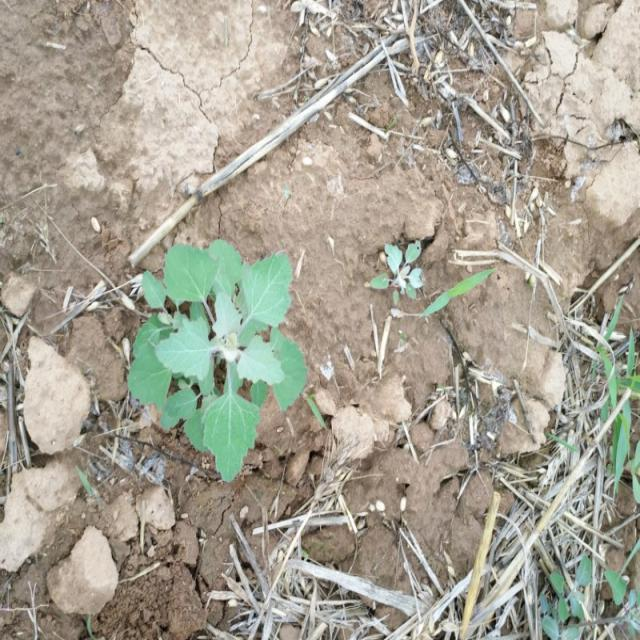goosefoots: (112, 229, 311, 458)
